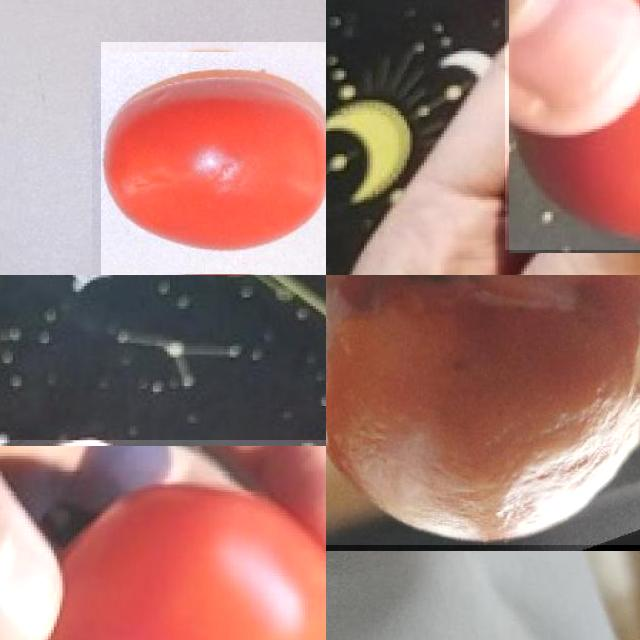0: (0, 440, 326, 640)
Fresh Tomato: (101, 42, 326, 275), (504, 0, 640, 250)
Rotten Tomato: (326, 275, 640, 544)
